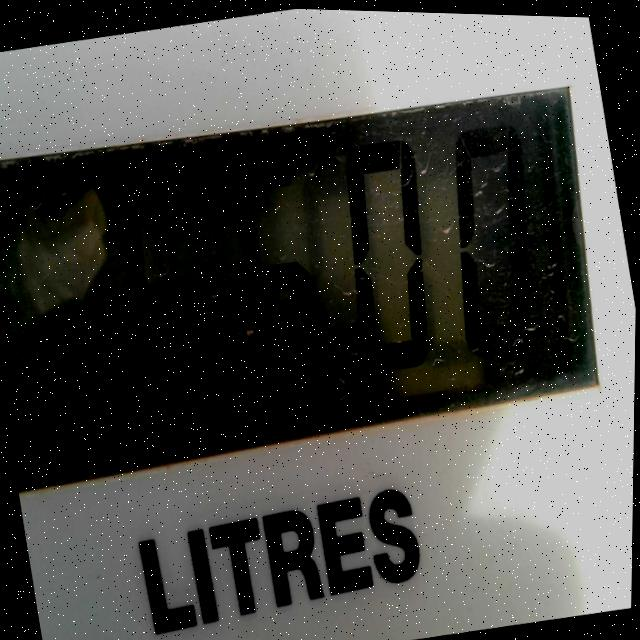.: (333, 344, 359, 380)
0: (428, 111, 557, 370), (324, 135, 450, 376)
5: (109, 171, 229, 421)
6: (225, 149, 333, 385)
